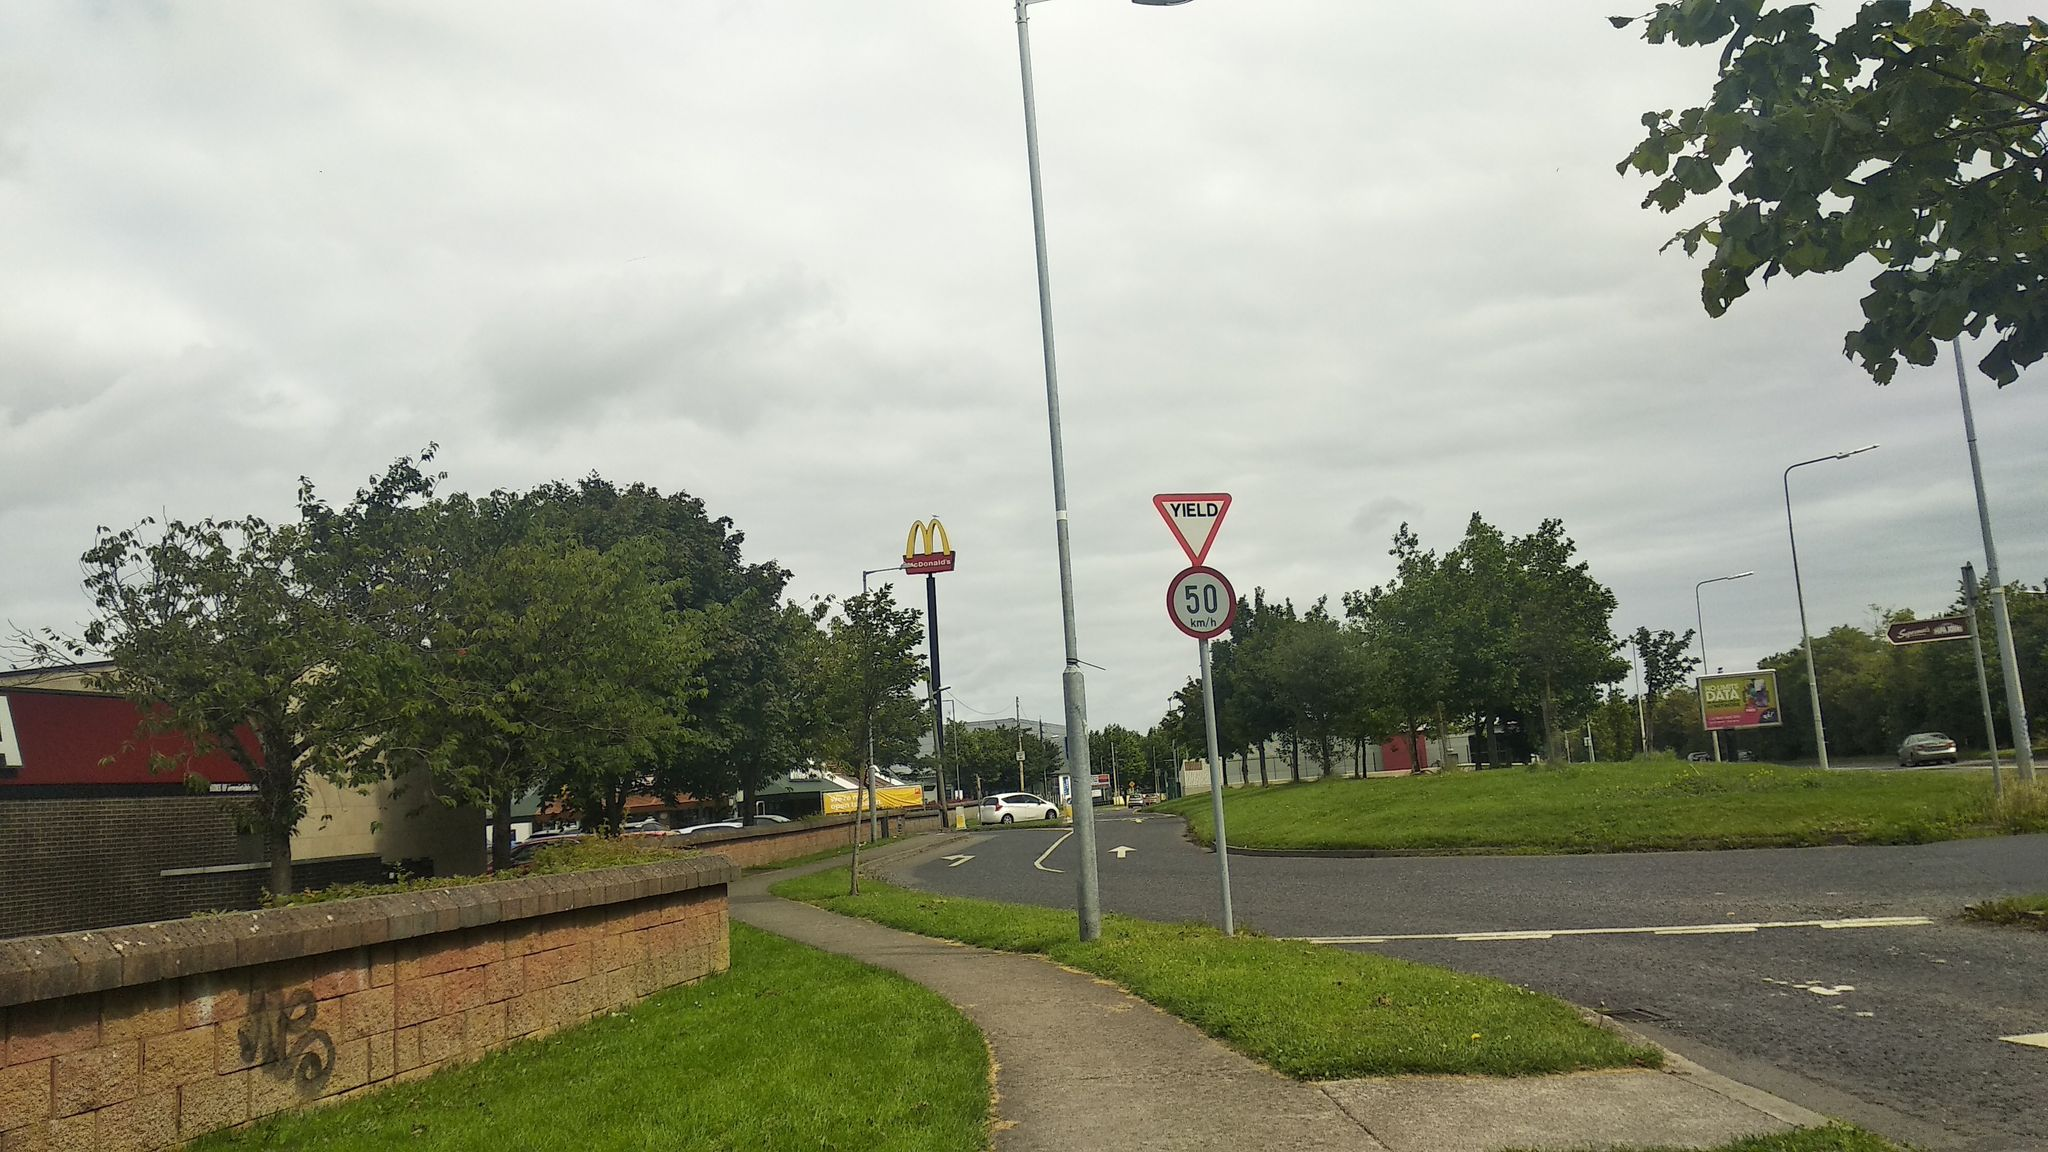vinyl banner: (817, 774, 937, 814)
